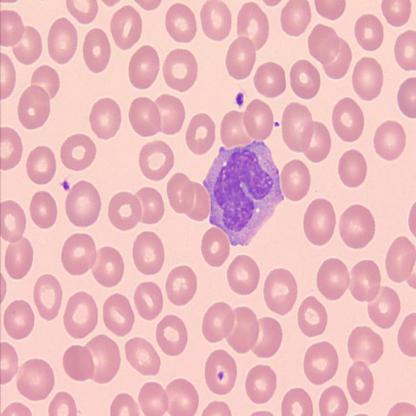Monocyte: (199, 137, 286, 248)
